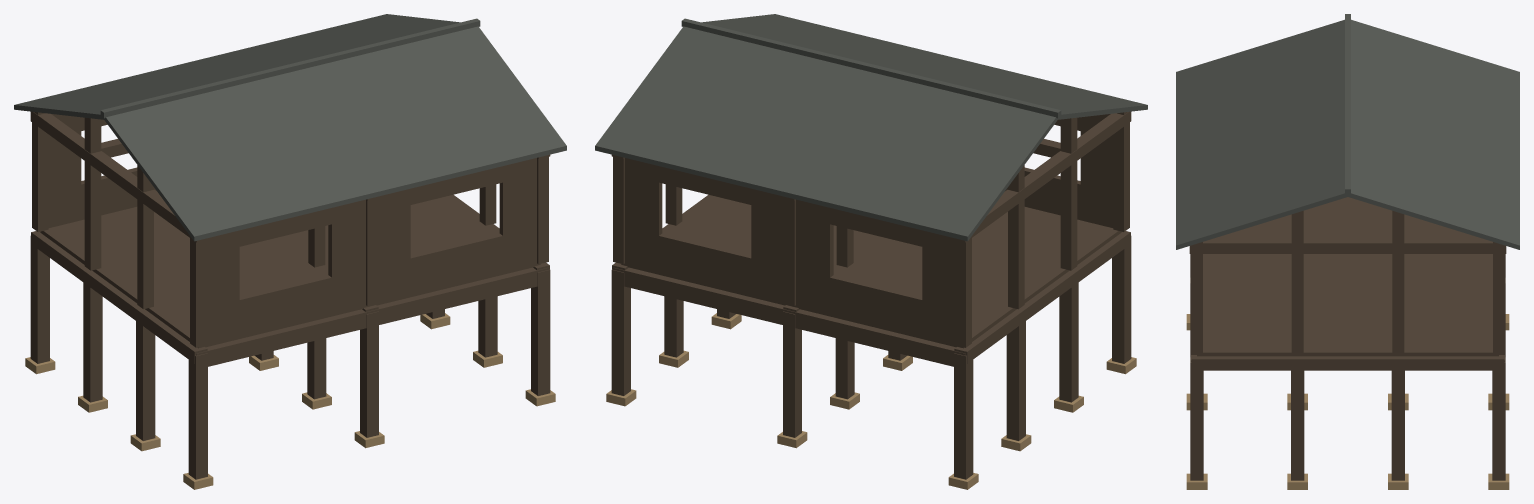
File: gallery-B-LOD2.glb
3 views of the same model, side by side, from view 1: azimuth 30°, elevation 25°; view 2: azimuth 150°, elevation 25°; view 3: azimuth 270°, elevation 25° (orthographic). The views are drawn at different scales.
Visible parts, largest first — view 1: gallery-B-static_timber, gallery-B-static_tile, gallery-B-static_earth; view 2: gallery-B-static_timber, gallery-B-static_tile, gallery-B-static_earth; view 3: gallery-B-static_tile, gallery-B-static_timber, gallery-B-static_earth.
Part boxes in pixels (x1,y1,x2,y2): gallery-B-static_timber: (30, 111, 550, 479); gallery-B-static_tile: (14, 14, 566, 241); gallery-B-static_earth: (25, 313, 555, 489); gallery-B-static_timber: (611, 111, 1131, 479); gallery-B-static_tile: (595, 14, 1147, 241); gallery-B-static_earth: (606, 313, 1136, 489); gallery-B-static_tile: (1176, 14, 1519, 249); gallery-B-static_timber: (1189, 197, 1506, 480); gallery-B-static_earth: (1186, 314, 1509, 489).
Size of the model in its own units: 9.9 by 8 by 8.2.
